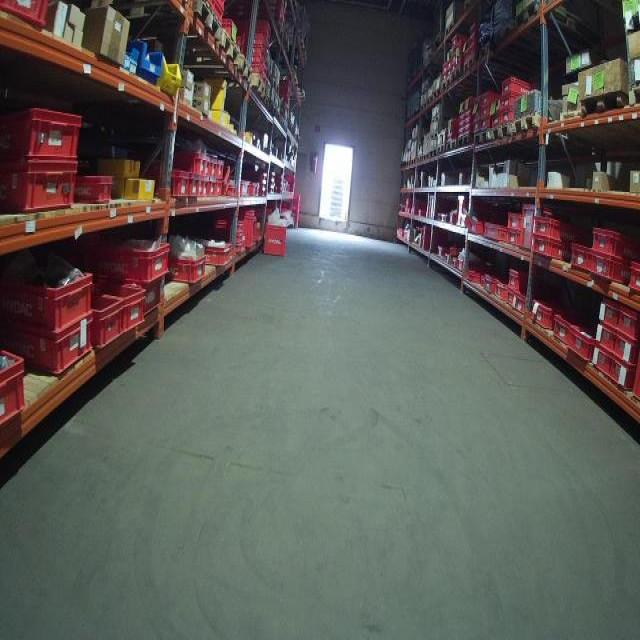pallet: (192, 0, 220, 47), (220, 28, 241, 70), (512, 113, 542, 136), (251, 72, 266, 101), (492, 123, 512, 141), (240, 53, 251, 85), (464, 52, 478, 74), (628, 84, 640, 107), (475, 129, 491, 146), (458, 132, 474, 148), (450, 67, 463, 84), (446, 137, 458, 152), (271, 78, 279, 95), (437, 144, 446, 155), (420, 102, 427, 112), (427, 95, 433, 106), (430, 149, 437, 158), (434, 89, 440, 99)
small_load_carrier: (1, 259, 98, 337), (7, 310, 99, 380), (1, 156, 82, 220), (9, 101, 88, 162), (90, 241, 171, 284), (96, 277, 148, 342), (1, 342, 35, 427), (80, 296, 127, 357), (139, 162, 191, 201), (516, 203, 557, 249), (3, 2, 54, 36), (169, 246, 210, 287), (586, 227, 638, 258), (70, 170, 115, 202), (533, 214, 580, 243), (137, 273, 168, 316), (533, 231, 573, 264), (588, 248, 624, 284), (566, 326, 598, 361), (608, 355, 636, 389), (530, 296, 559, 327), (613, 328, 637, 365), (594, 296, 618, 331), (264, 222, 289, 255), (205, 240, 233, 269), (591, 343, 615, 375), (616, 305, 639, 336), (594, 322, 614, 355), (505, 264, 528, 292), (177, 150, 206, 171), (556, 316, 578, 343), (571, 244, 592, 272), (498, 80, 537, 95), (624, 262, 639, 295), (485, 222, 505, 246), (505, 208, 526, 230), (501, 93, 527, 109), (500, 288, 518, 310), (506, 228, 524, 248), (500, 107, 518, 126), (514, 291, 529, 313), (497, 282, 509, 302)
